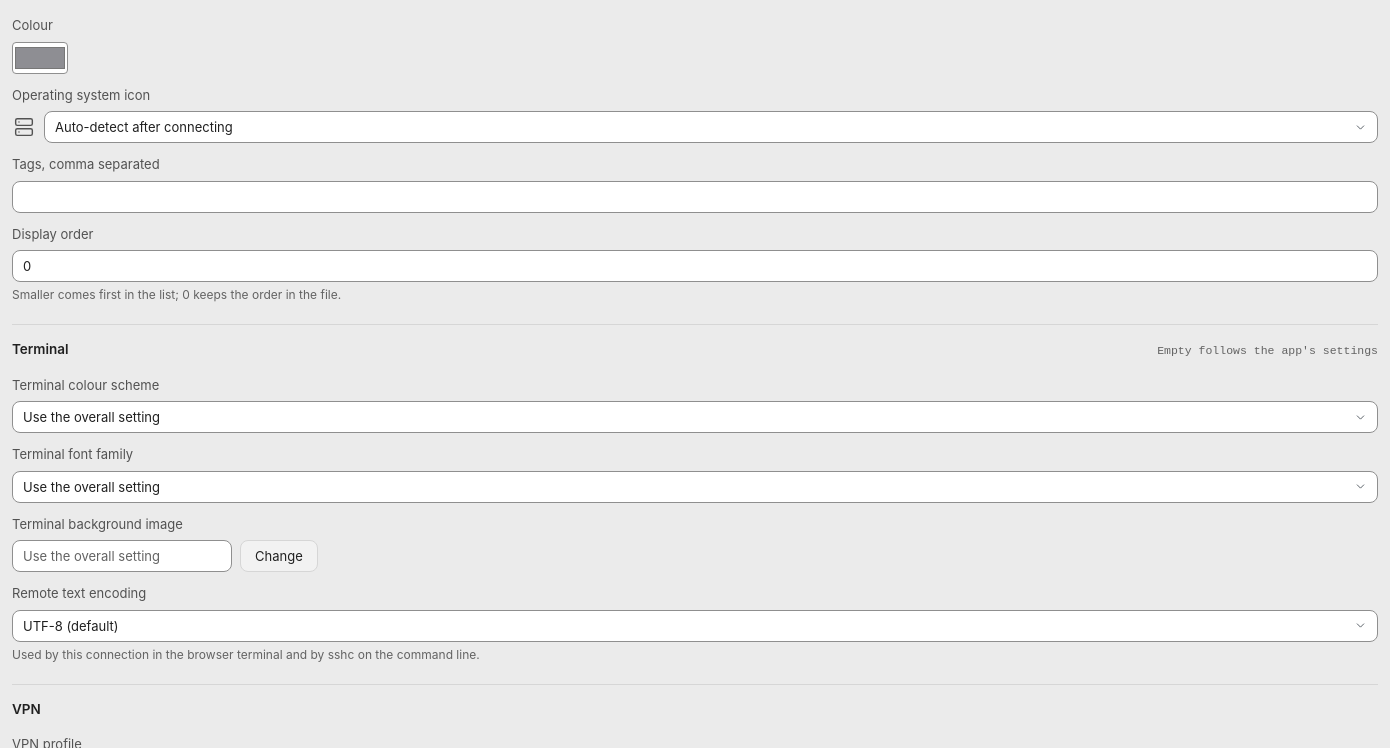
HostInspector › says the save failed and keeps the draft to try again
The width and height of the screenshot is (1390, 748).
Select "Shift_JIS (Japanese)" in the dropdown labelled "Remote text encoding" at [695, 626], box x1=12 y1=610 x2=1378 y2=642
(page scrolled)
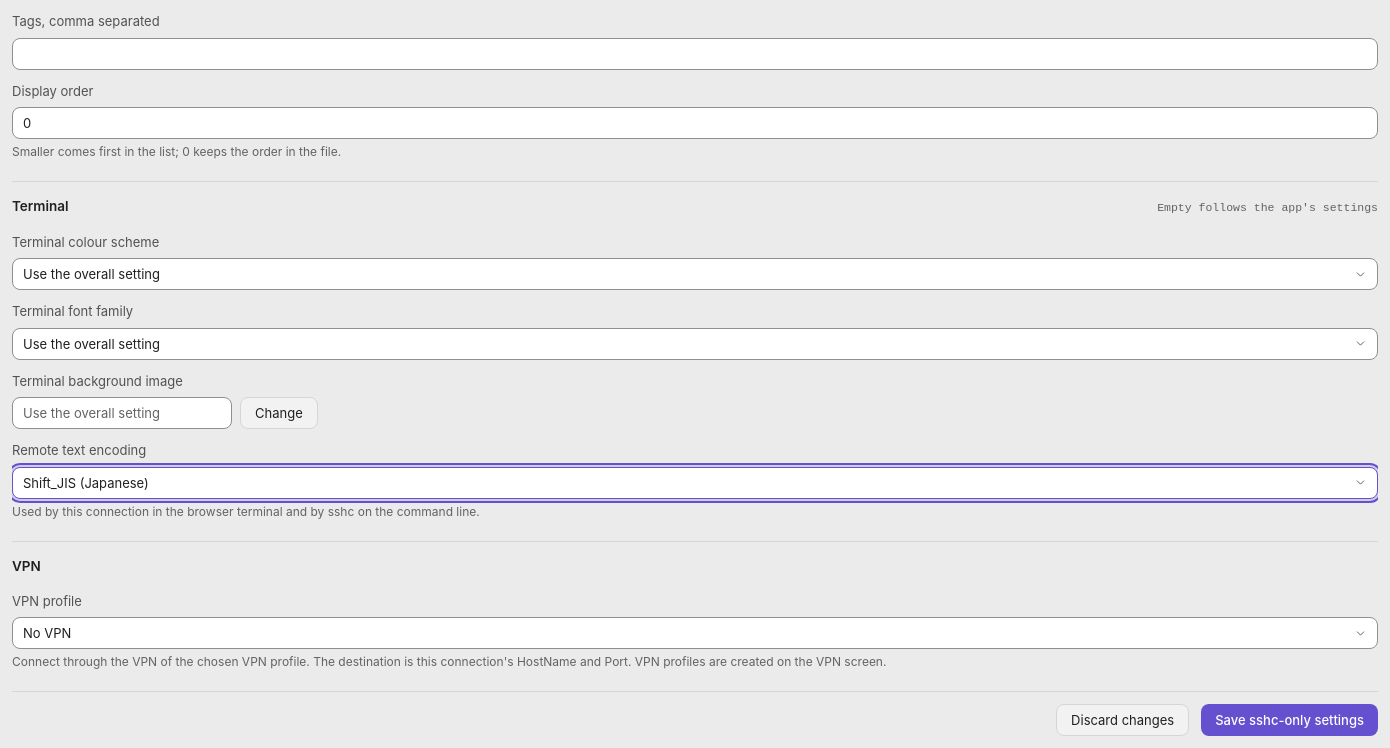
Click the button "Save sshc-only settings" at [1290, 720], box x1=1201 y1=704 x2=1378 y2=736
(page scrolled)
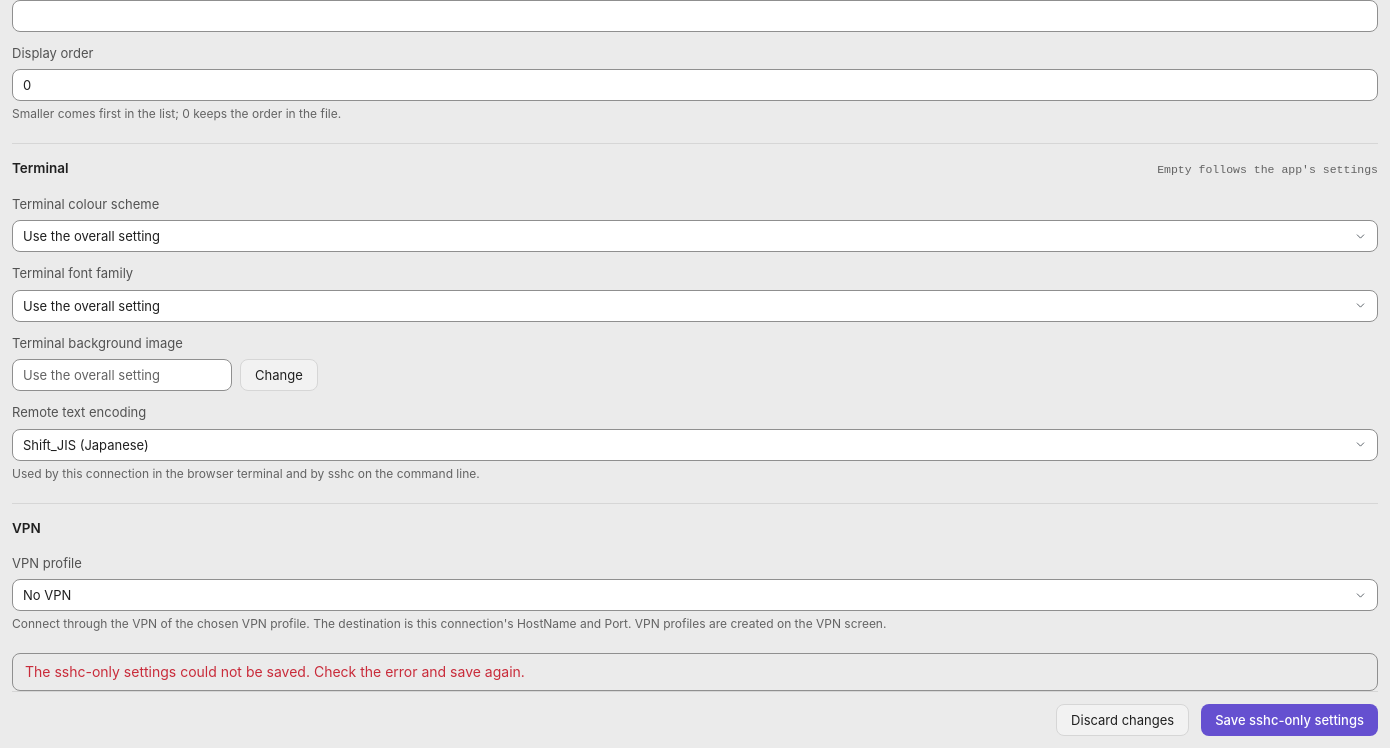
Expected: the message shows "The sshc-only settings could not be saved.", x1=25 y1=663 x2=525 y2=680
Click the button "Save sshc-only settings" at [1290, 720], box x1=1201 y1=704 x2=1378 y2=736
(page scrolled)
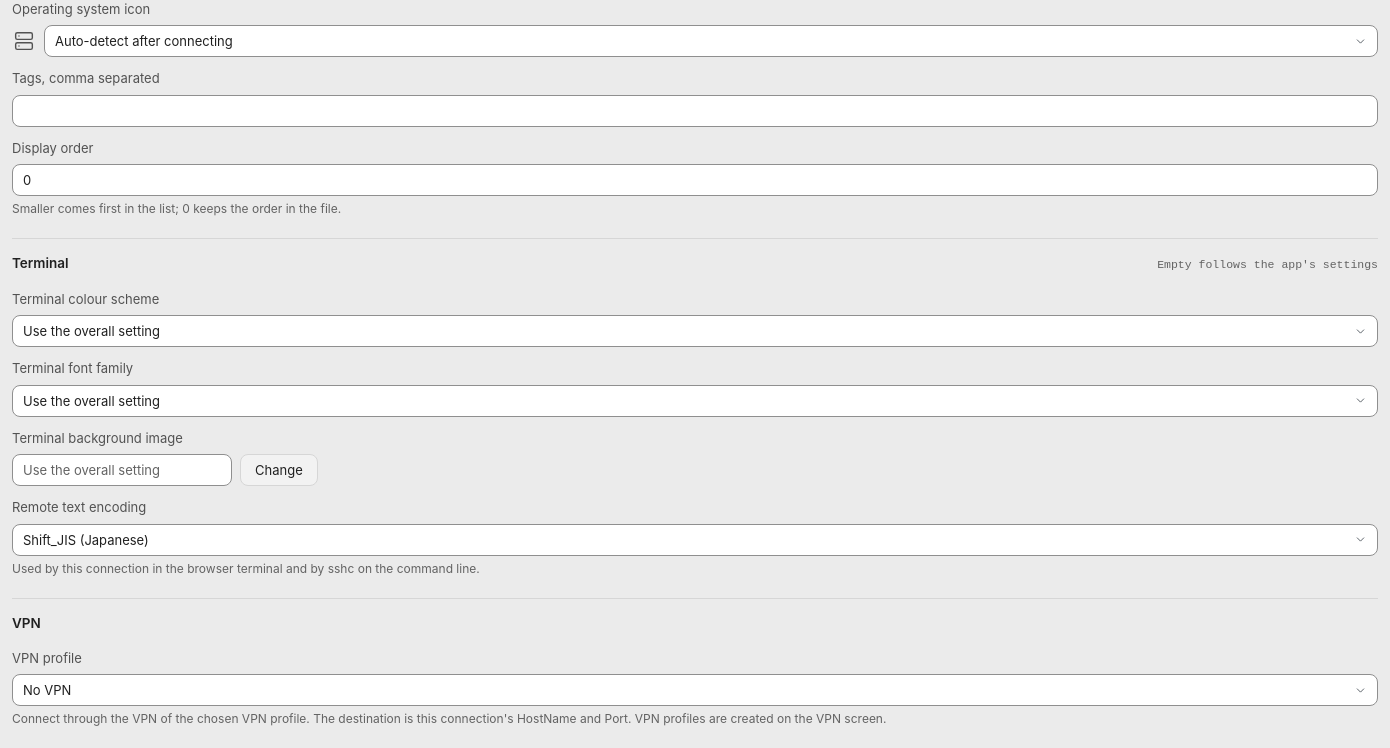
Expected: the message "The sshc-only settings could not be saved. Check the error and save again." is gone
